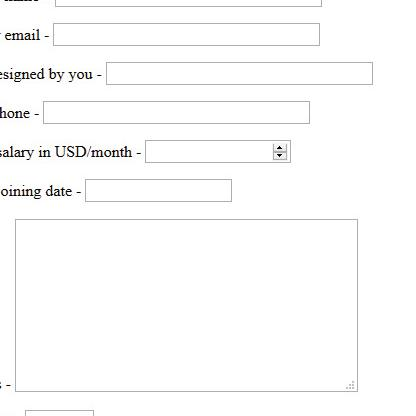field: (12, 216, 359, 394), (105, 60, 375, 88), (52, 21, 323, 48), (40, 100, 312, 125), (83, 177, 234, 204), (143, 138, 295, 164)
